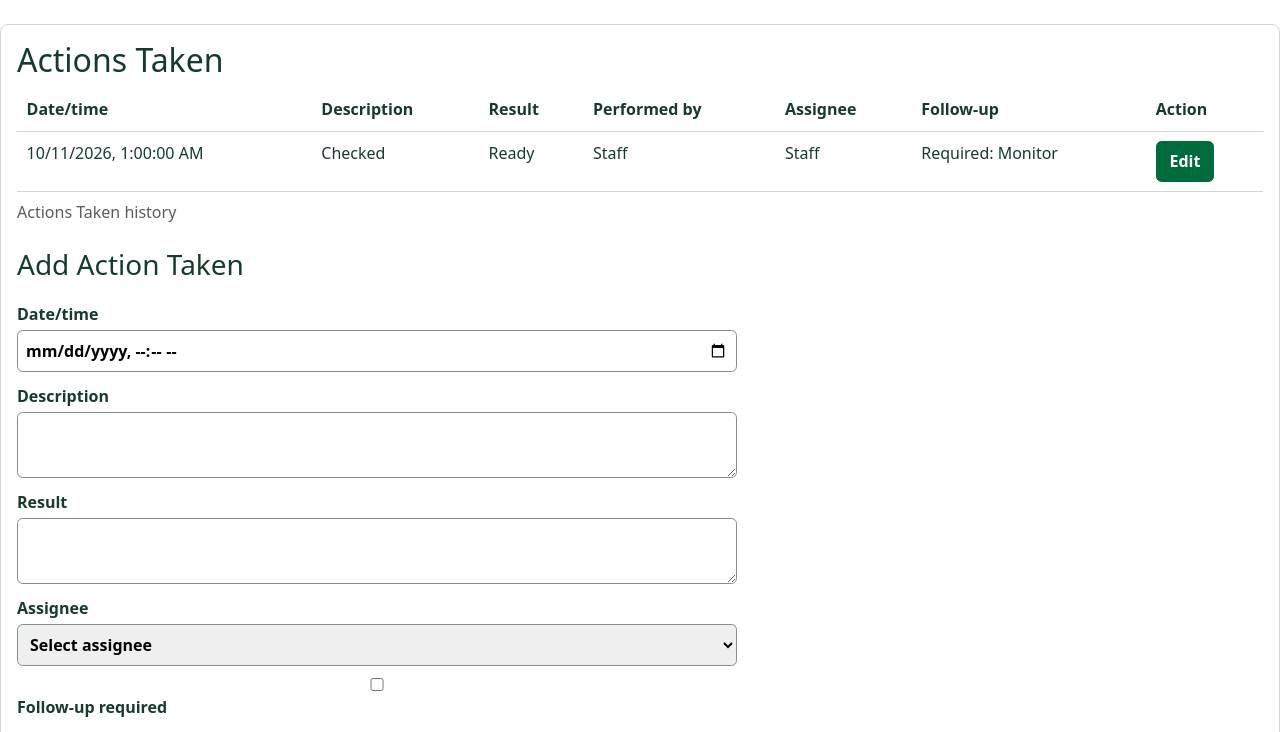
UI-01/UI-04/UI-05/UI-06: Actions Taken › UI-01: hydrates the existing action before an edit save
expect the text "Checked" is shown: met, box [312,131,479,192]
Click the button "Edit": (1185, 161) [1156,141,1214,182]
(page scrolled)
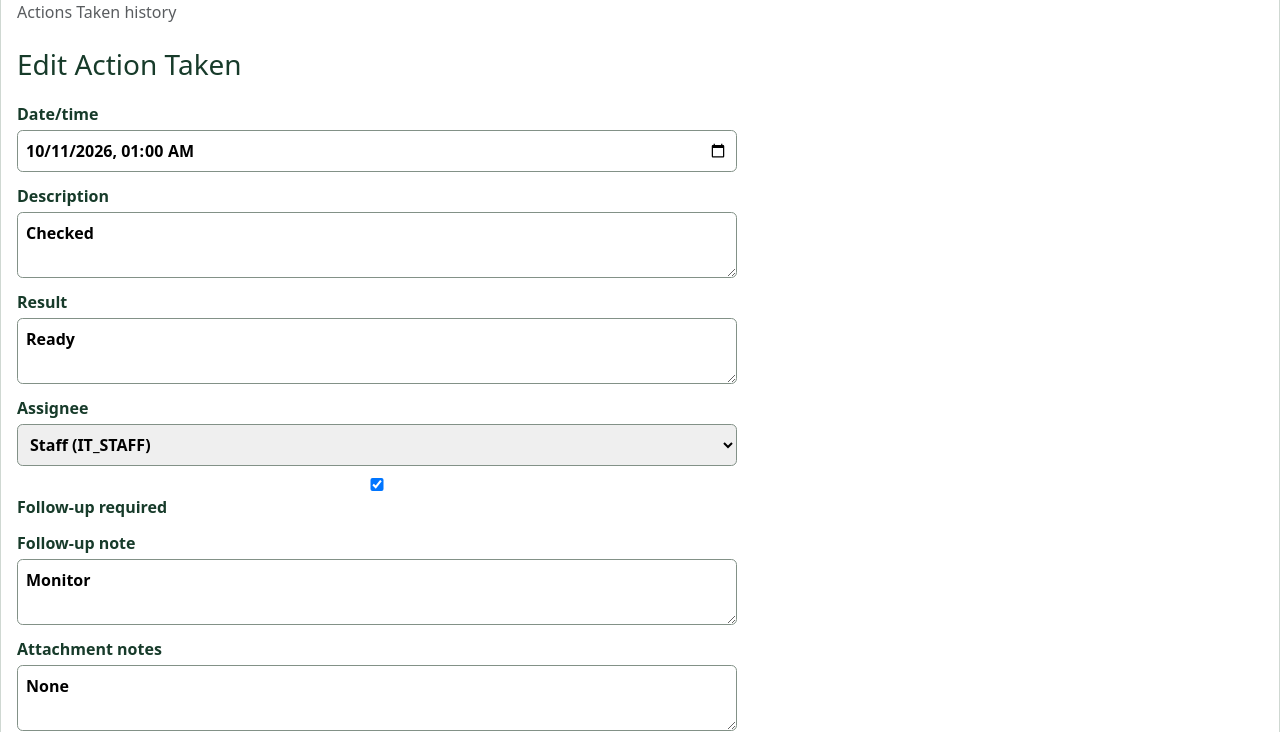
expect the text box showing "Checked" is shown: met, box [17,212,737,278]
expect the text box showing "Ready" is shown: met, box [17,318,737,384]
expect the text box showing "Monitor" is shown: met, box [17,559,737,625]
